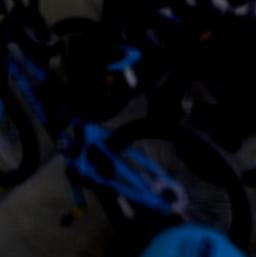algae: (136, 222, 256, 257)
